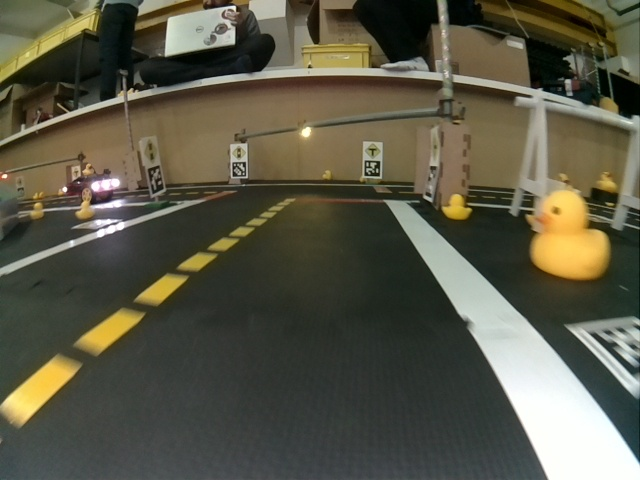Duckie: (532, 192, 610, 277), (443, 197, 471, 219), (77, 201, 92, 217), (32, 203, 44, 218), (82, 165, 94, 175), (322, 170, 332, 179)
Duckiebot: (64, 175, 120, 200)
Intersection sign: (365, 142, 380, 159)
QR code: (568, 317, 639, 397), (424, 165, 439, 199), (147, 166, 164, 195), (75, 220, 119, 229), (363, 160, 380, 178), (231, 162, 247, 177)
Signal sign: (144, 139, 158, 163), (231, 145, 246, 160)
Traffic light: (299, 122, 310, 138)
